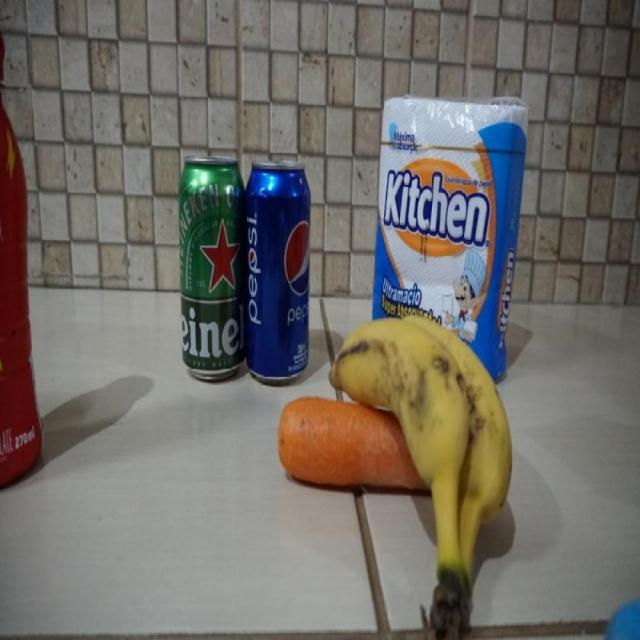Banana: (331, 301, 517, 629), (328, 313, 513, 631)
BeerCan: (178, 152, 246, 385), (182, 160, 243, 375)
Carrot: (277, 395, 423, 503), (271, 394, 408, 492)
ChocolateMilk: (1, 29, 45, 490), (0, 28, 43, 496)
Napkin: (372, 90, 532, 382), (378, 102, 520, 348)
SodaCan: (245, 155, 311, 385), (245, 160, 310, 382)
